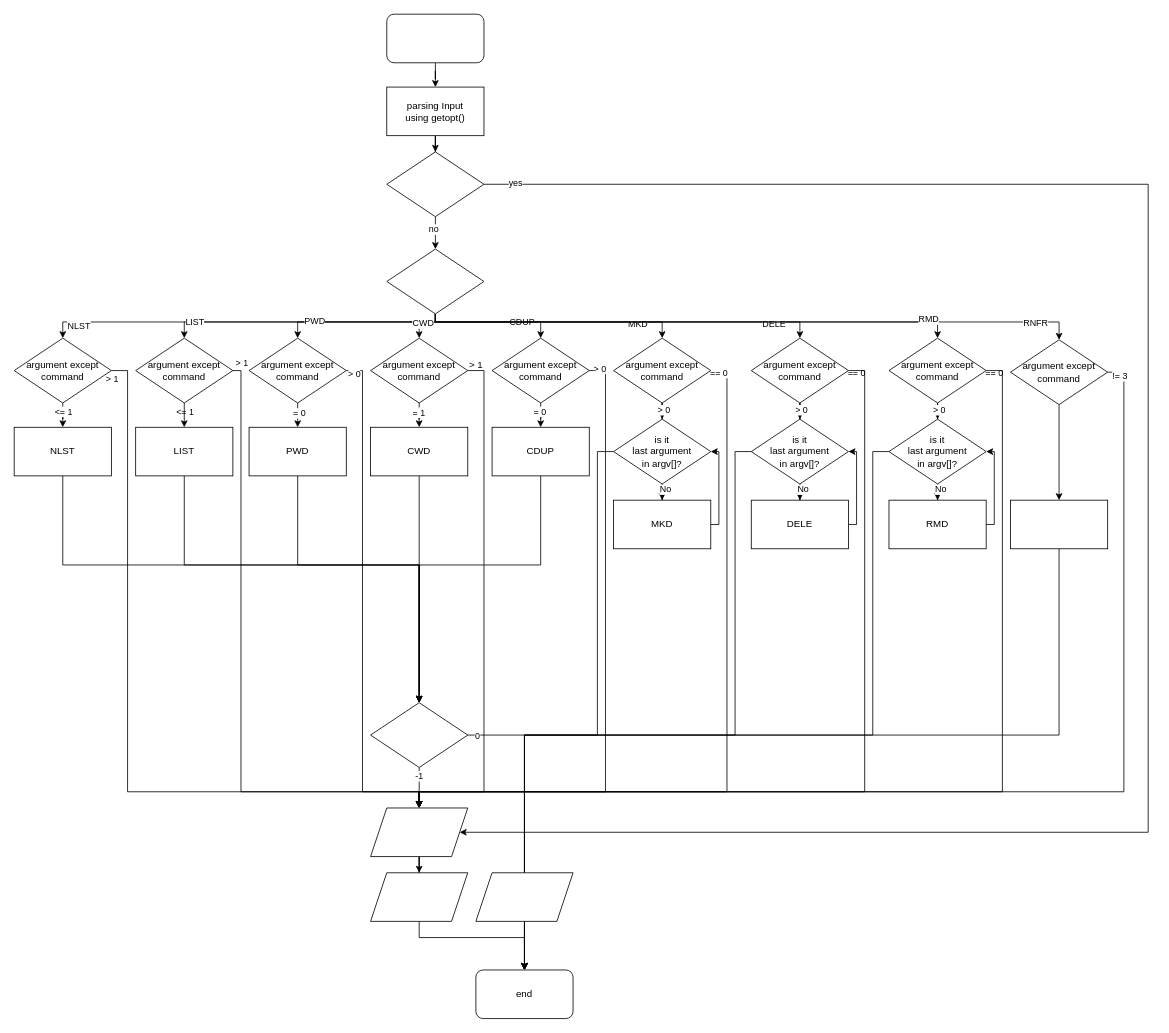
Some shapes in this 1169 by 1033 pixel diagram are drawn without their labels. The shapes that lost their labels are listed below. From the top down, each one's centre as x and y in pixels, then its label:
(x=435, y=38): start
(x=435, y=184): no input || wrong command || invalid option
(x=435, y=281): command
(x=1059, y=524): RN
(x=419, y=734): return val
(x=419, y=832): write error to result_buff
(x=419, y=896): exit(1)
(x=524, y=896): exit(0)
